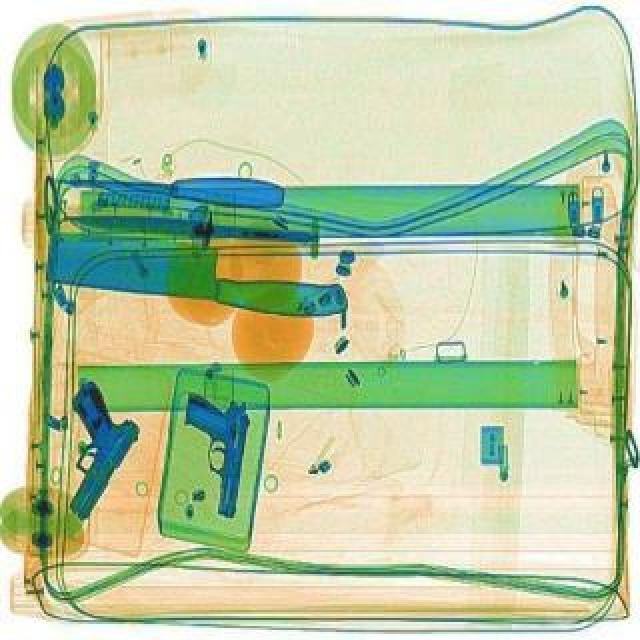gun: (18, 374, 154, 516), (170, 388, 252, 516)
knife: (40, 222, 352, 318), (58, 162, 284, 206), (66, 204, 310, 244)
